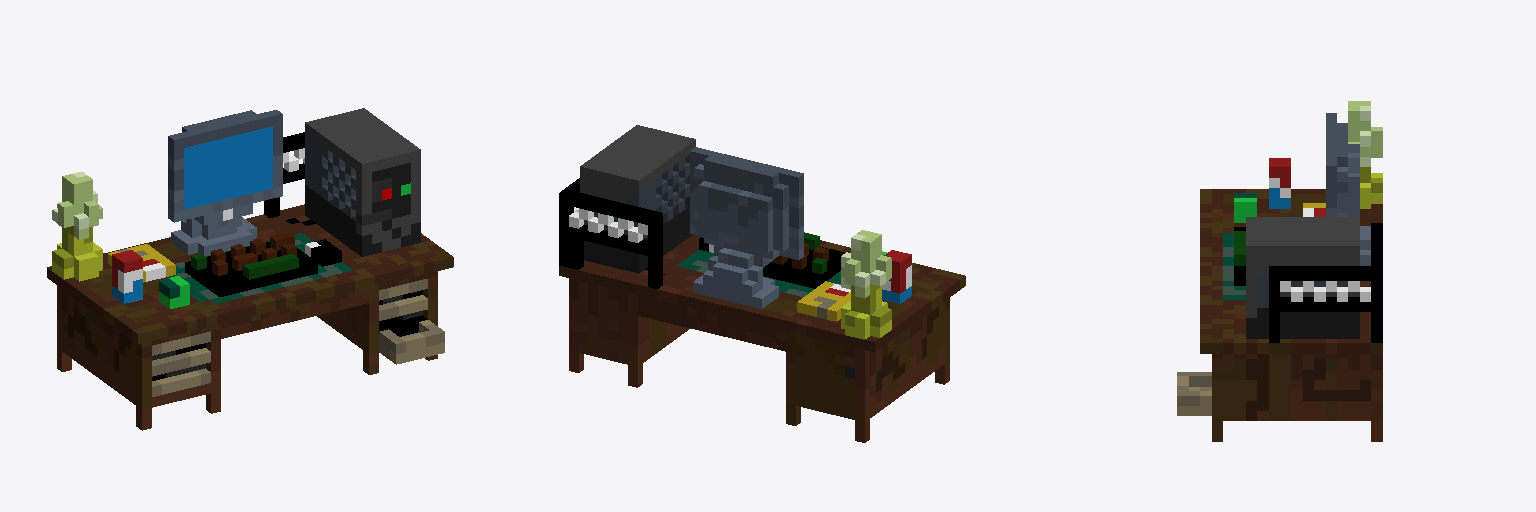
The picture shows the model from 3 angles: view 1: azimuth 30°, elevation 25°; view 2: azimuth 150°, elevation 25°; view 3: azimuth 270°, elevation 25°; orthographic projection.
Parts seen in each view (by area): view 1: object 1; view 2: object 1; view 3: object 1.
Boxes of the visible parts, x1,y1,x2,y2 form: object 1: [47, 108, 453, 430]; object 1: [559, 125, 965, 442]; object 1: [1177, 101, 1382, 441].
Bounding box in the file's own units: 3.2 × 2.2 × 1.8.
Materials: 1 (1 with a texture image).